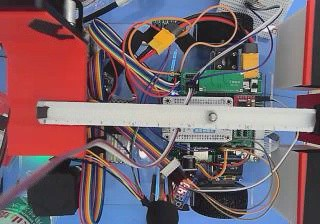ironball: (207, 111, 217, 121)
